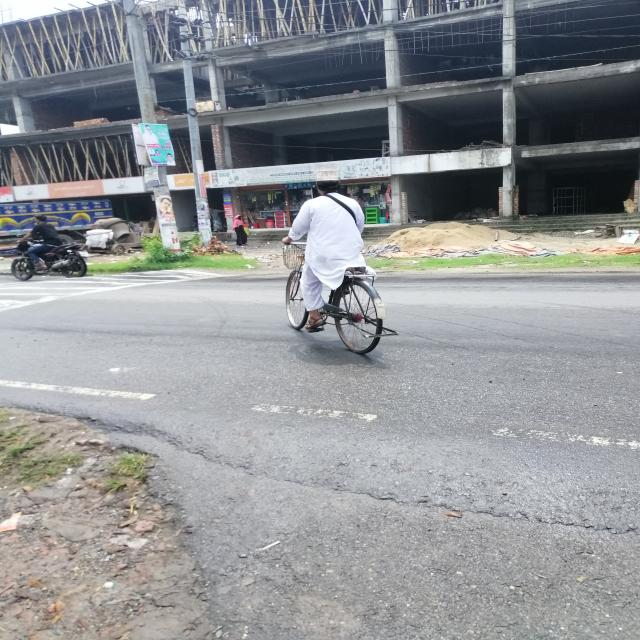Bicycle: (249, 238, 407, 370)
Motorbike: (9, 241, 94, 286)
